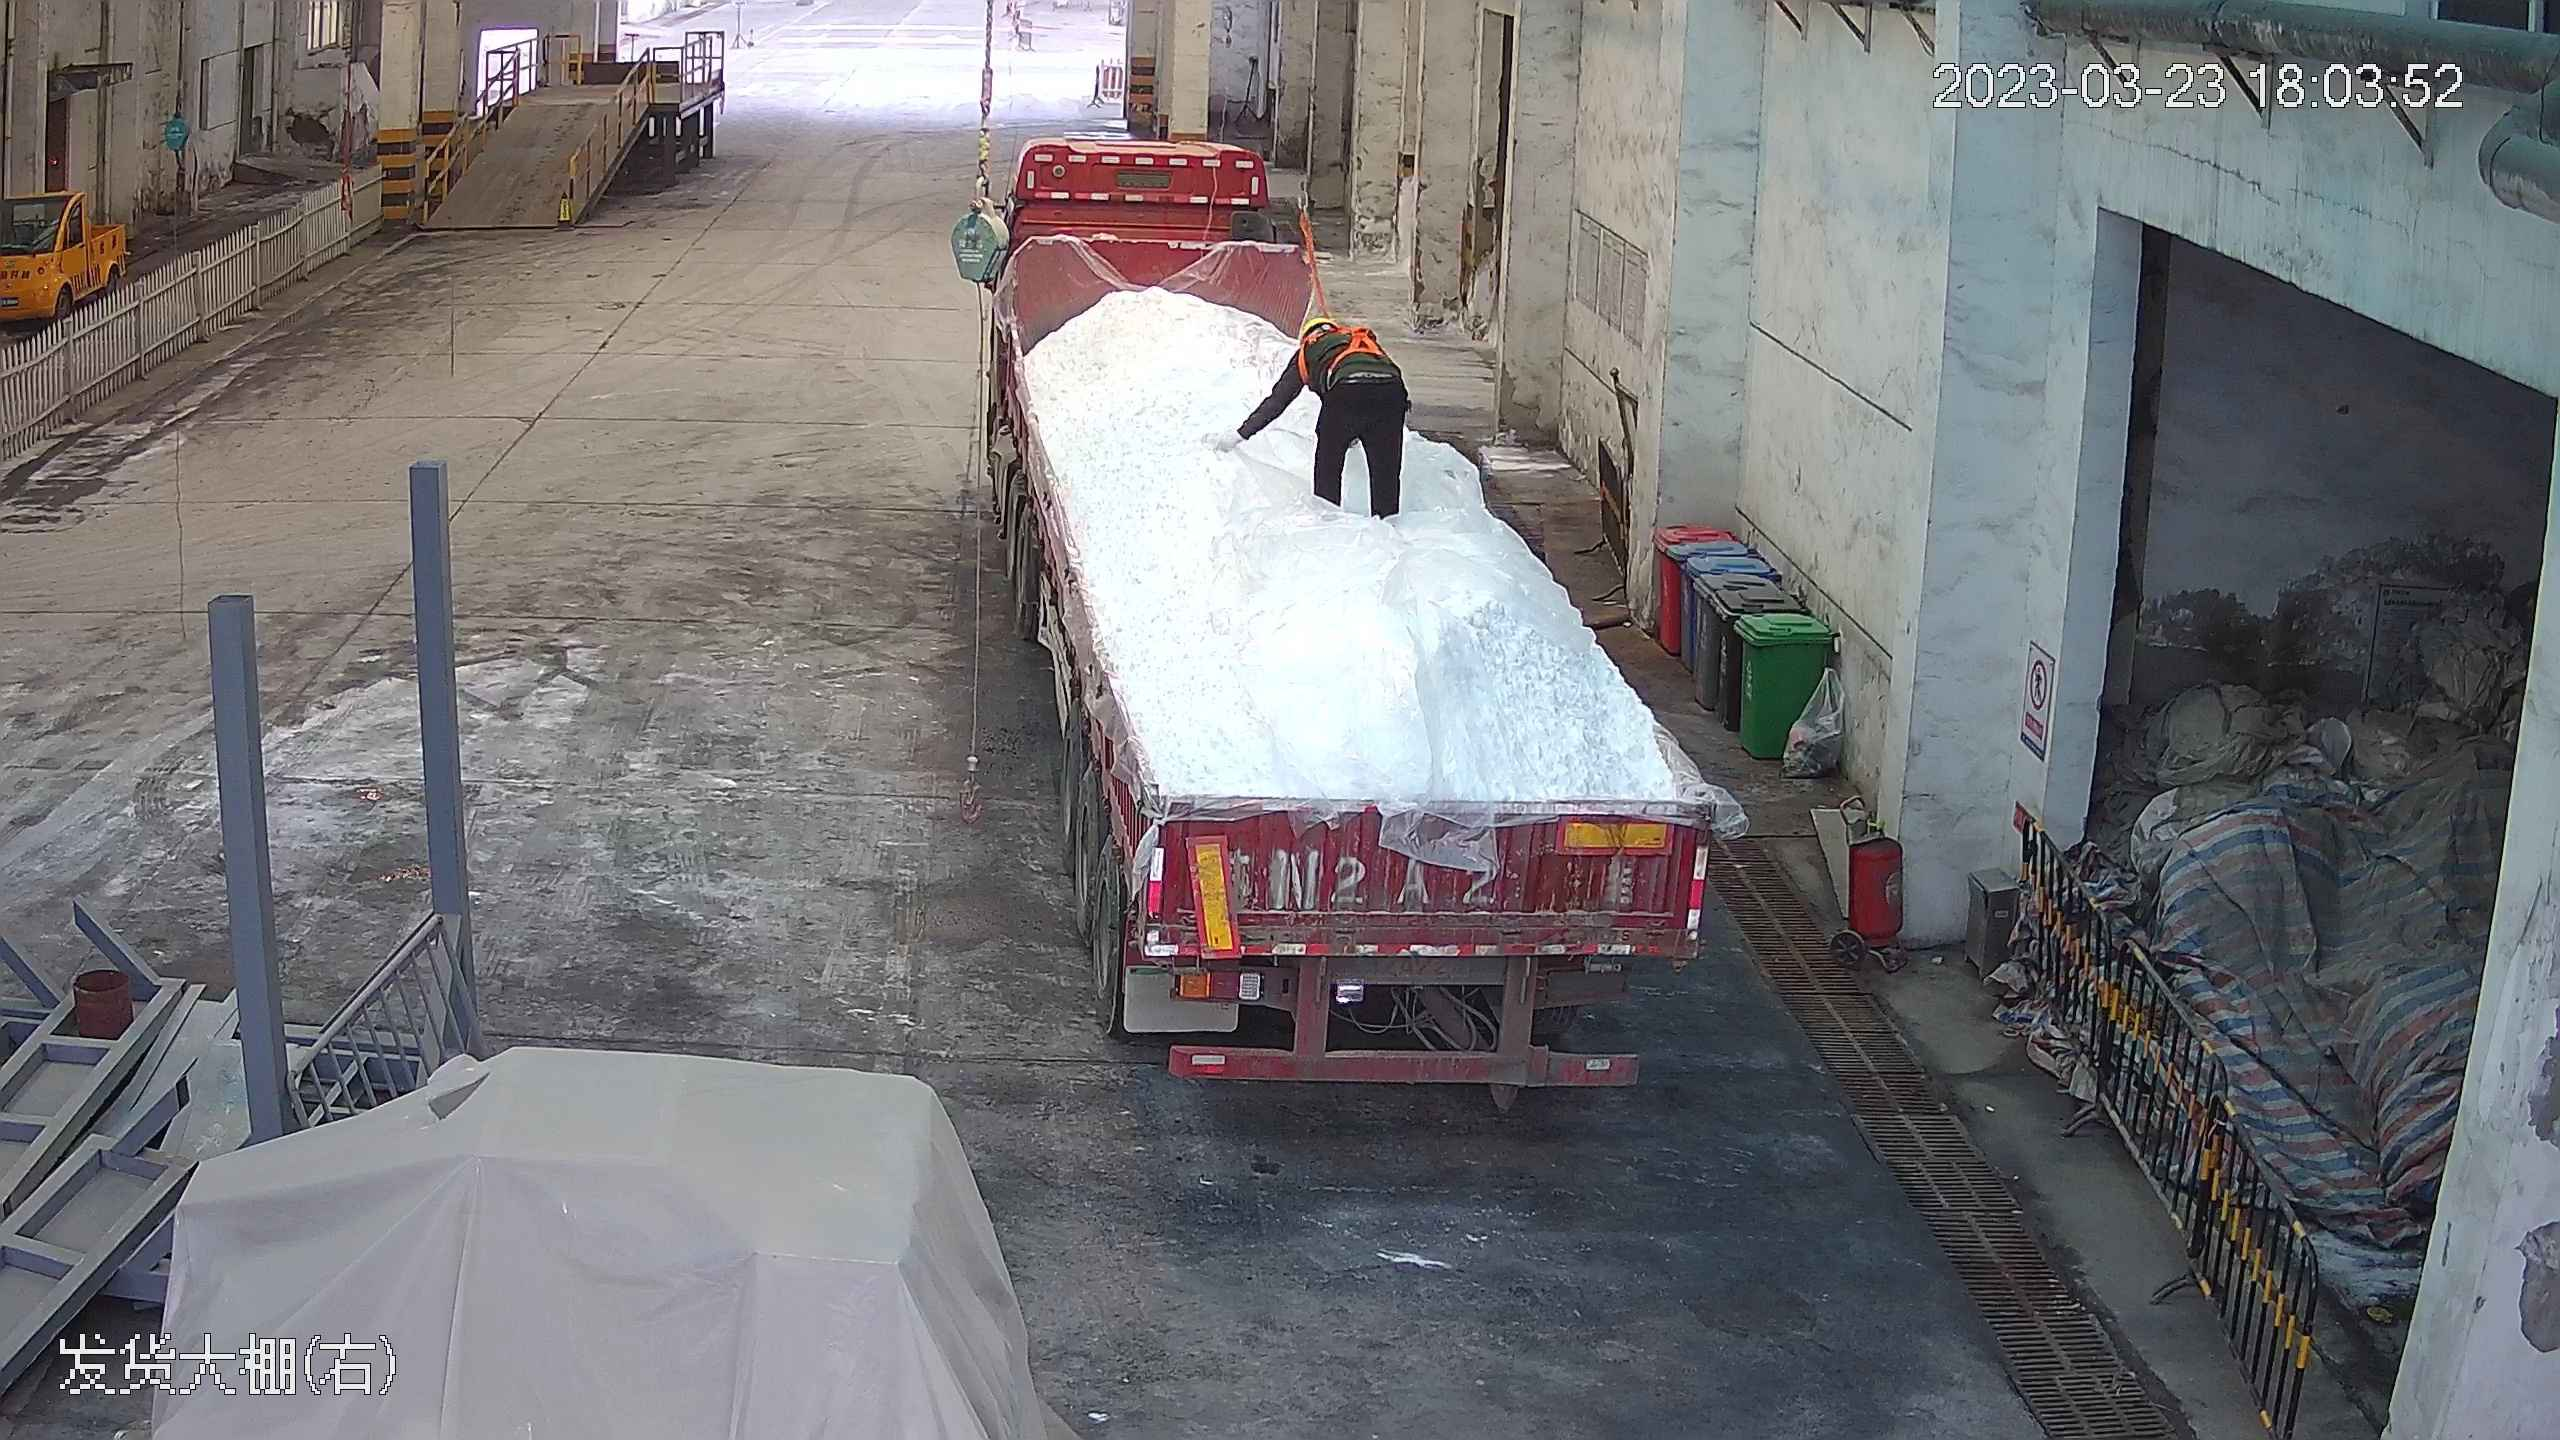belt: (1303, 319, 1386, 385)
head: (1291, 311, 1382, 383)
helmet: (1298, 311, 1340, 346)
people: (961, 149, 1721, 1089), (1230, 308, 1416, 519)
truck: (965, 137, 1715, 1097)
